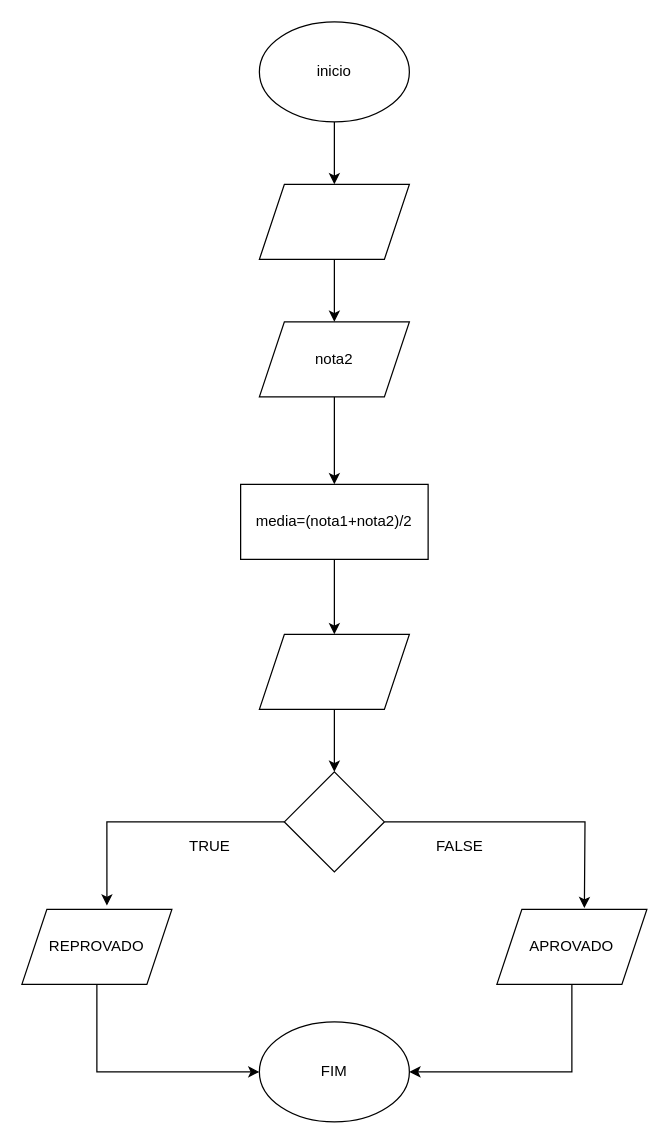
This 669x1144 diagram has some shape labels left out. The shapes that lost their labels are listed below. From the top down, each one's centre as x and y in pixels, then its label:
At pixel 333 221: "nota1".
At pixel 333 671: "media".
At pixel 333 821: "media < 5".
